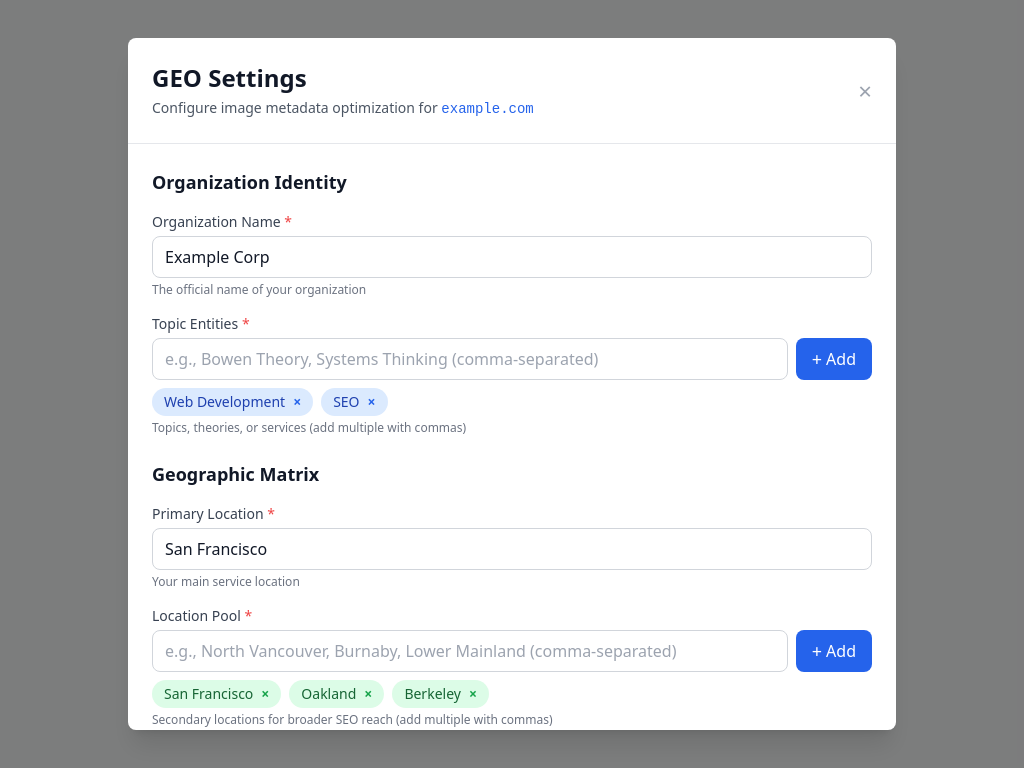
Scenario: GeoSettings › allows removing locations
Expected: the text "Oakland" is shown, [301,684,356,704]
# Find the remove button within the Oakland location tag
Click the button "×" next to "Oakland".
click(368, 694)  # box [364,687,372,701]
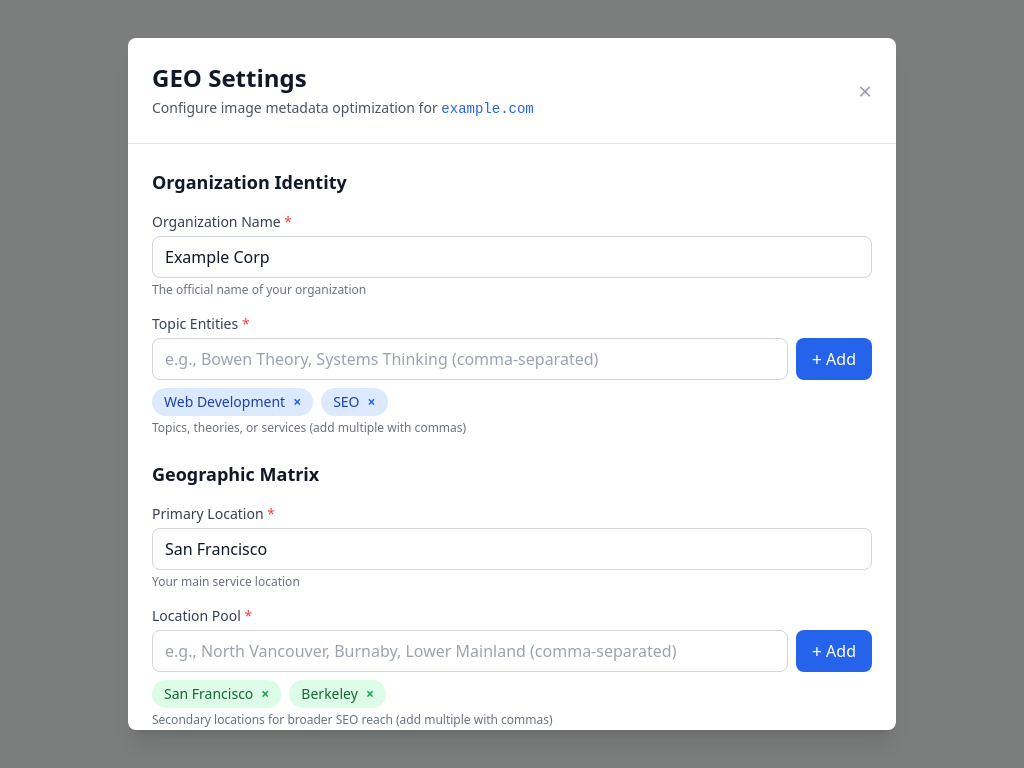
Expected: the text "Oakland" is gone
